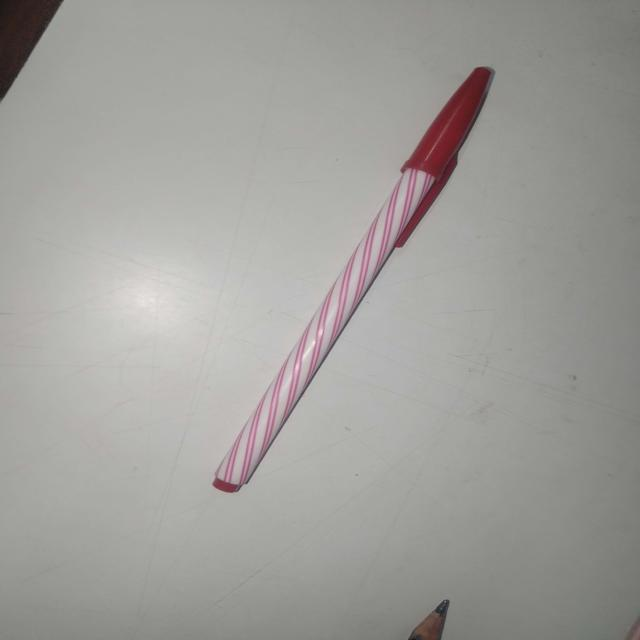pen_pencil: (168, 51, 526, 526)
